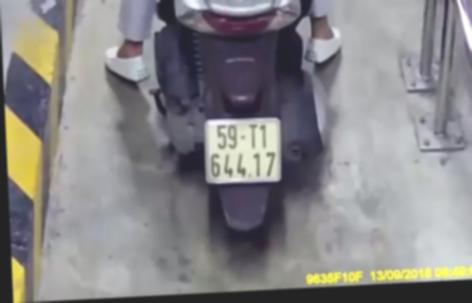License_Plate: (195, 113, 289, 193)
